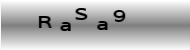9: (112, 9, 126, 23)
R: (38, 15, 53, 29)
S: (73, 7, 88, 21)
a: (59, 21, 72, 32), (95, 20, 109, 30)
